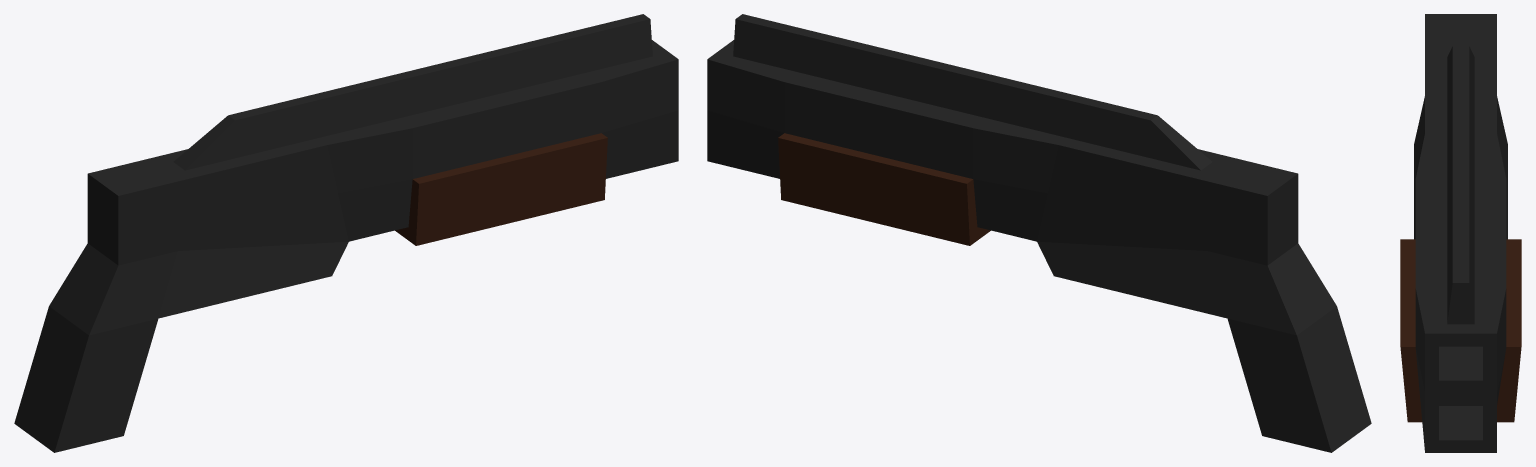
Rendered from final_shotgun_0.fbx.
The picture shows the model from 3 angles, left to right: view 1: azimuth 30°, elevation 25°; view 2: azimuth 150°, elevation 25°; view 3: azimuth 270°, elevation 25°; orthographic projection. The views are drawn at different scales.
Visible parts, largest first — view 1: Cube; view 2: Cube; view 3: Cube.
Part boxes in pixels (left/top/right/bottom): Cube: left=14, top=14, right=678, bottom=452; Cube: left=707, top=14, right=1371, bottom=452; Cube: left=1400, top=14, right=1521, bottom=452.
Size of the model in its own units: 1812 by 749 by 258.
